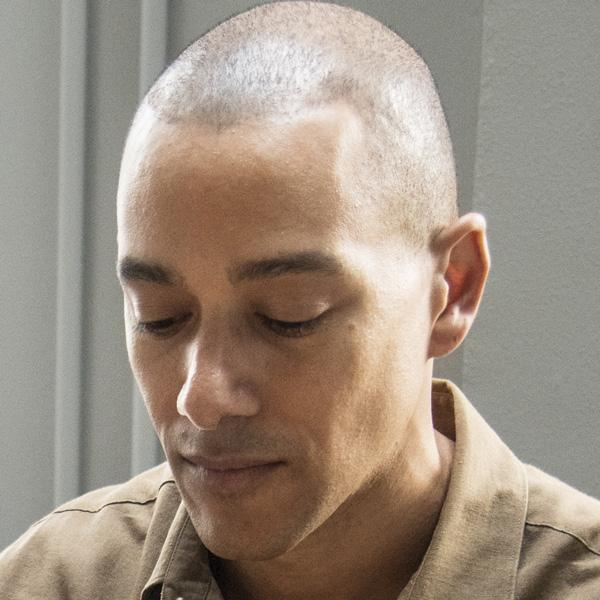Eyes: (234, 285, 341, 340), (121, 282, 198, 342)
